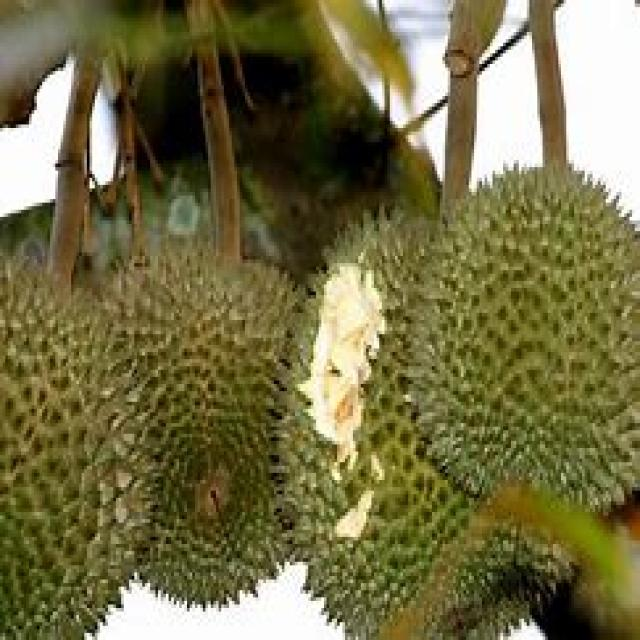immature: (400, 159, 640, 522)
